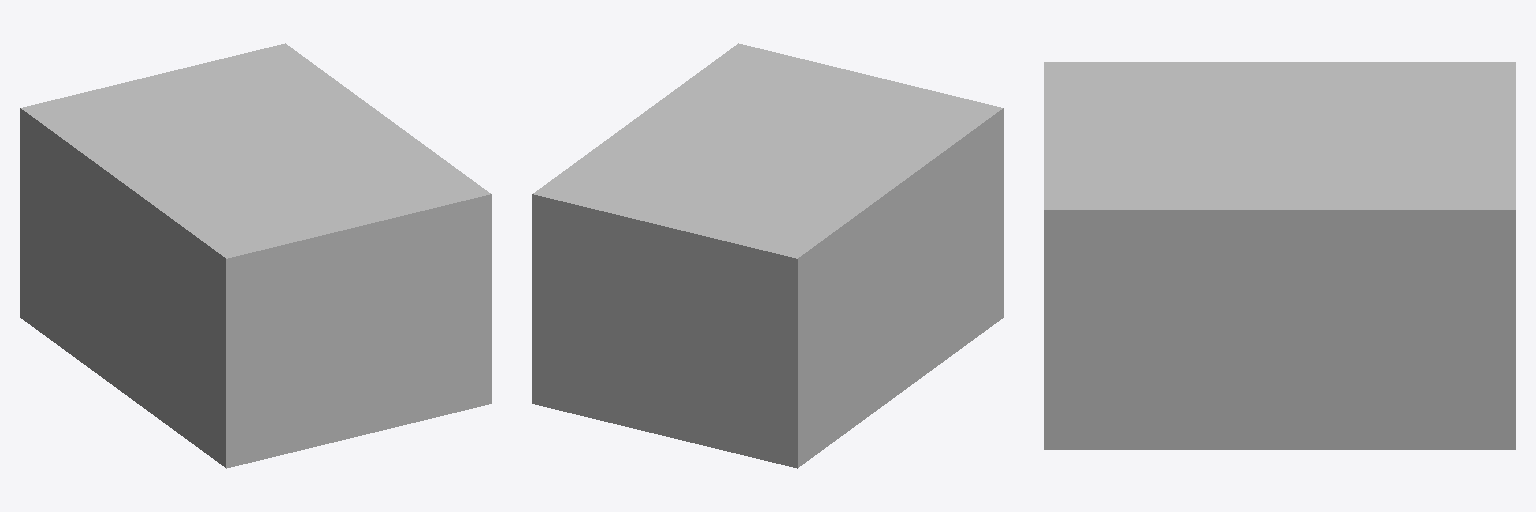
The robot description file, URDF, robot "box.urdf":
<?xml version="1.0" ?>
<robot name="box.urdf">
  <link name="baseLink">
    <contact>
      <lateral_friction value="1.0"/>
      <rolling_friction value="0.0001"/>
      <inertia_scaling value="3.0"/>
    </contact>
    <inertial>
      <origin rpy="0 0 0" xyz="0 0 0"/>
       <mass value="0.1"/>
       <inertia ixx="1" ixy="0" ixz="0" iyy="1" iyz="0" izz="1"/>
    </inertial>
    <visual>
      <origin rpy="0 0 0" xyz="0 0 0"/>
      <geometry>
        <!-- <box size="0.39 0.525 0.295"/> -->
        <mesh filename="box/box.obj" scale="0.39 0.525 0.295"/>
      </geometry>
      <material name="white">
        <color rgba="0.8 0.8 0.8 1"/>
      </material>
    </visual>
    <collision>
      <origin rpy="0 0 0" xyz="0 0 0"/>
      <geometry>
        <mesh filename="box/box.obj" scale="0.39 0.525 0.295"/>
	 	    <!-- <box size="0.39 0.525 0.295"/> -->
      </geometry>
    </collision>
  </link>
</robot>

--- What the picture shows (computed from the rendered views, not written in the file) ---
The picture shows the robot from 3 angles, left to right: view 1: azimuth 30°, elevation 25°; view 2: azimuth 150°, elevation 25°; view 3: azimuth 270°, elevation 25°; orthographic projection.
Model box.urdf with 1 links and 0 joints (none), rooted at baseLink, posed all joints at 0.
Links seen in each view (by area): view 1: baseLink; view 2: baseLink; view 3: baseLink.
Boxes of the visible links, x1,y1,x2,y2 form: baseLink: (20, 43, 491, 468); baseLink: (532, 43, 1003, 468); baseLink: (1044, 62, 1515, 449).
Size in the robot's own frame: 0.39 by 0.525 by 0.295 metres.
Meshes: 1 distinct files referenced, 1 mesh visuals loaded (1 OBJ).
